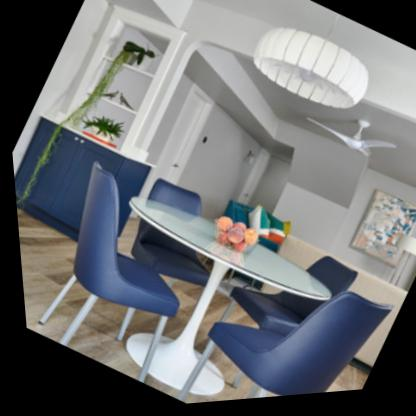Dining Table: (11, 138, 394, 416)
